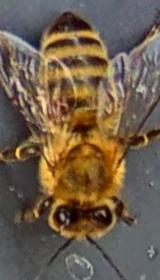varroa_mite: (38, 88, 70, 124)
